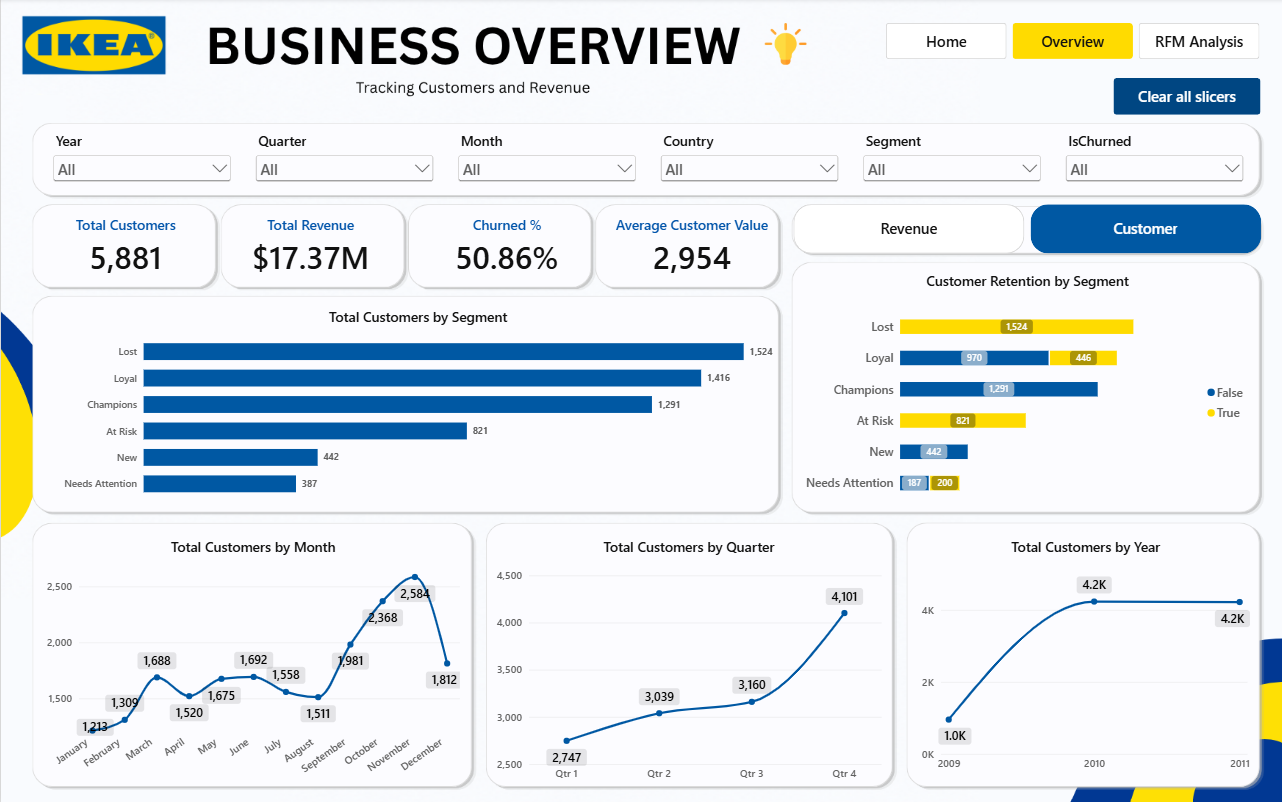

The dashboard page shown, as its layout file describes it:
{"tool":"powerbi","page":{"name":"Overview","canvas":[1750,1100],"ordinal":1},"visuals":[{"type":"cardVisual","fields":{"Data":["Sheet1.Total Customers"]},"box":[44.6,283.9,251.8,108.9],"z":0},{"type":"lineChart","fields":{"Category":["Sheet1.InvoiceDate.Variation.Date Hierarchy.Month"],"Y":["Sheet1.Total Customers"]},"box":[45.3,719.3,594.6,366.1],"z":0,"group":"g1"},{"type":"cardVisual","fields":{"Data":["Sheet1.Total Revenue"]},"box":[296.4,283.9,251.8,108.9],"z":1000},{"type":"clusteredBarChart","fields":{"Category":["Sheet1.Segment"],"Y":["Sheet1.Total Customers"]},"box":[67,406,999.2,297.6],"z":1000,"group":"g1"},{"type":"cardVisual","fields":{"Data":["Sheet1.Churned %"]},"box":[562.5,283.9,251.8,108.9],"z":2000},{"type":"barChart","title":"Customer Retention by Segment","fields":{"Category":["Sheet1.Segment"],"Series":["Sheet1.IsChurned"],"Y":["Sheet1.Total Customers"]},"box":[1078,356.7,636.5,346.8],"z":2000,"group":"g1"},{"type":"cardVisual","fields":{"Data":["Sheet1.Average Customer Value"]},"box":[814.3,283.9,251.8,108.9],"z":3000},{"type":"lineChart","fields":{"Category":["Sheet1.InvoiceDate.Variation.Date Hierarchy.Quarter"],"Y":["Sheet1.Total Customers"]},"box":[658.2,719.3,555.7,366.6],"z":3000,"group":"g1"},{"type":"slicer","fields":{"Values":["Sheet1.InvoiceDate.Variation.Date Hierarchy.Year"]},"box":[66.1,182.1,251.8,69.6],"z":4000},{"type":"lineChart","fields":{"Category":["Sheet1.InvoiceDate.Variation.Date Hierarchy.Year"],"Y":["Sheet1.Total Customers"]},"box":[1235.6,719.3,478.9,352.8],"z":4000,"group":"g1"},{"type":"slicer","fields":{"Values":["Sheet1.InvoiceDate.Variation.Date Hierarchy.Quarter"]},"box":[341.8,182.1,251.8,69.6],"z":5000},{"type":"slicer","fields":{"Values":["Sheet1.InvoiceDate.Variation.Date Hierarchy.Month"]},"box":[617.5,182.1,251.8,69.6],"z":6000},{"type":"slicer","fields":{"Values":["Sheet1.Country"]},"box":[893.2,182.1,251.8,69.6],"z":7000},{"type":"slicer","fields":{"Values":["Sheet1.Segment"]},"box":[1168.9,182.1,251.8,69.6],"z":8000},{"type":"slicer","fields":{"Values":["Sheet1.IsChurned"]},"box":[1444.6,182.1,251.8,69.6],"z":9000},{"type":"bookmarkNavigator","box":[1078,279.8,636.5,67],"z":10000},{"type":"group","id":"g1","title":"Group 2","box":[45.3,356.7,1669.2,729.2],"z":12000},{"type":"actionButton","box":[1513.6,108.8,200,50],"z":13000},{"type":"image","box":[1038.6,33.5,57.2,57.2],"z":14000},{"type":"pageNavigator","box":[1204.1,34,510.2,49.3],"z":19000}]}

Visuals, with their boxes in screenshot pixels (x1, y1, x2, y2), scaled from the page's 1750x1100 canvas onto the 1282x802 screenshot:
cardVisual - Sheet1.Total Customers: 33,207,217,286
lineChart - Sheet1.InvoiceDate.Variation.Date Hierarchy.Month x Sheet1.Total Customers: 33,524,469,791
cardVisual - Sheet1.Total Revenue: 217,207,402,286
clusteredBarChart - Sheet1.Segment x Sheet1.Total Customers: 49,296,781,513
cardVisual - Sheet1.Churned %: 412,207,597,286
"Customer Retention by Segment" barChart: 790,260,1256,513
cardVisual - Sheet1.Average Customer Value: 597,207,781,286
lineChart - Sheet1.InvoiceDate.Variation.Date Hierarchy.Quarter x Sheet1.Total Customers: 482,524,889,792
slicer - Sheet1.InvoiceDate.Variation.Date Hierarchy.Year: 48,133,233,184
lineChart - Sheet1.InvoiceDate.Variation.Date Hierarchy.Year x Sheet1.Total Customers: 905,524,1256,782
slicer - Sheet1.InvoiceDate.Variation.Date Hierarchy.Quarter: 250,133,435,184
slicer - Sheet1.InvoiceDate.Variation.Date Hierarchy.Month: 452,133,637,184
slicer - Sheet1.Country: 654,133,839,184
slicer - Sheet1.Segment: 856,133,1041,184
slicer - Sheet1.IsChurned: 1058,133,1243,184
bookmarkNavigator: 790,204,1256,253
"Group 2" group: 33,260,1256,792
actionButton: 1109,79,1255,116
image: 761,24,803,66
pageNavigator: 882,25,1256,61
